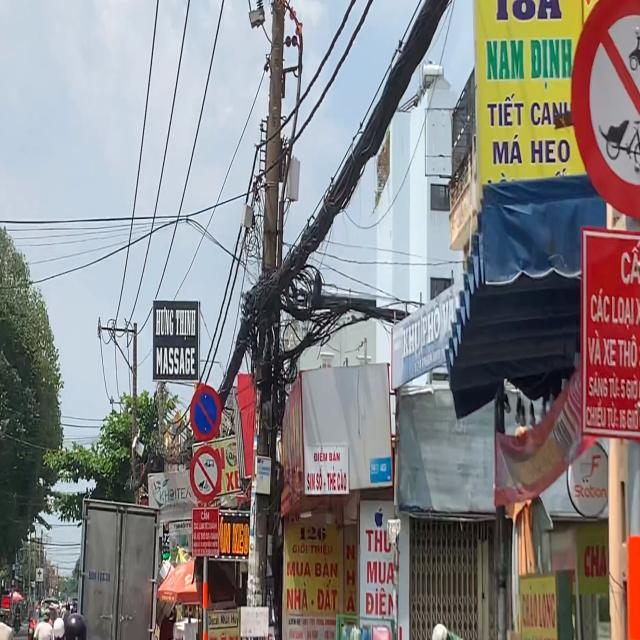Cam con lai: (189, 445, 223, 505)
Cam do: (190, 385, 222, 440)
